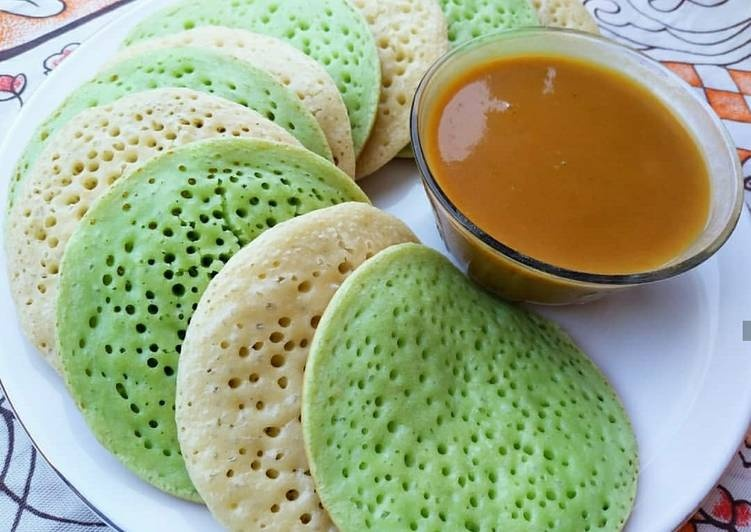srabi: (304, 237, 639, 518)
